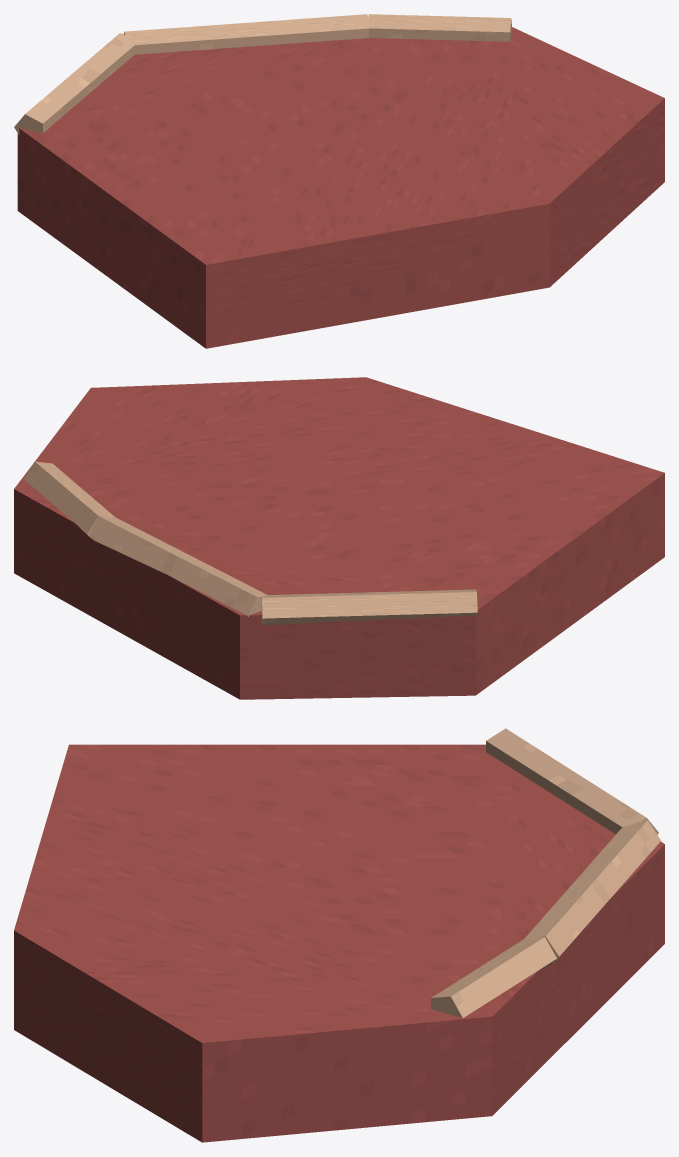
File: demihuman_liver.glb
The picture shows the model from 3 angles, top to bottom: view 1: azimuth 30°, elevation 25°; view 2: azimuth 150°, elevation 25°; view 3: azimuth 270°, elevation 25°; orthographic projection. The views are drawn at different scales.
Visible parts, largest first — view 1: block_fillet or lobe, block_pale outer edge 1, block_pale outer edge 0, block_pale outer edge 2; view 2: block_fillet or lobe, block_pale outer edge 0, block_pale outer edge 1, block_pale outer edge 2; view 3: block_fillet or lobe, block_pale outer edge 1, block_pale outer edge 0, block_pale outer edge 2.
Part boxes in pixels (box(x1,y1,x2,y2)): block_fillet or lobe: box(17, 27, 664, 348); block_pale outer edge 1: box(123, 14, 368, 54); block_pale outer edge 0: box(14, 33, 134, 134); block_pale outer edge 2: box(368, 14, 511, 41); block_fillet or lobe: box(14, 377, 664, 699); block_pale outer edge 0: box(261, 589, 477, 625); block_pale outer edge 1: box(90, 516, 267, 616); block_pale outer edge 2: box(24, 461, 114, 538); block_fillet or lobe: box(14, 744, 664, 1142); block_pale outer edge 1: box(524, 820, 660, 963); block_pale outer edge 0: box(486, 728, 658, 834); block_pale outer edge 2: box(431, 937, 556, 1017).
Size of the model in its own units: 0.0667 by 0.0122 by 0.0612.
Materials: 1 (1 with a texture image).
